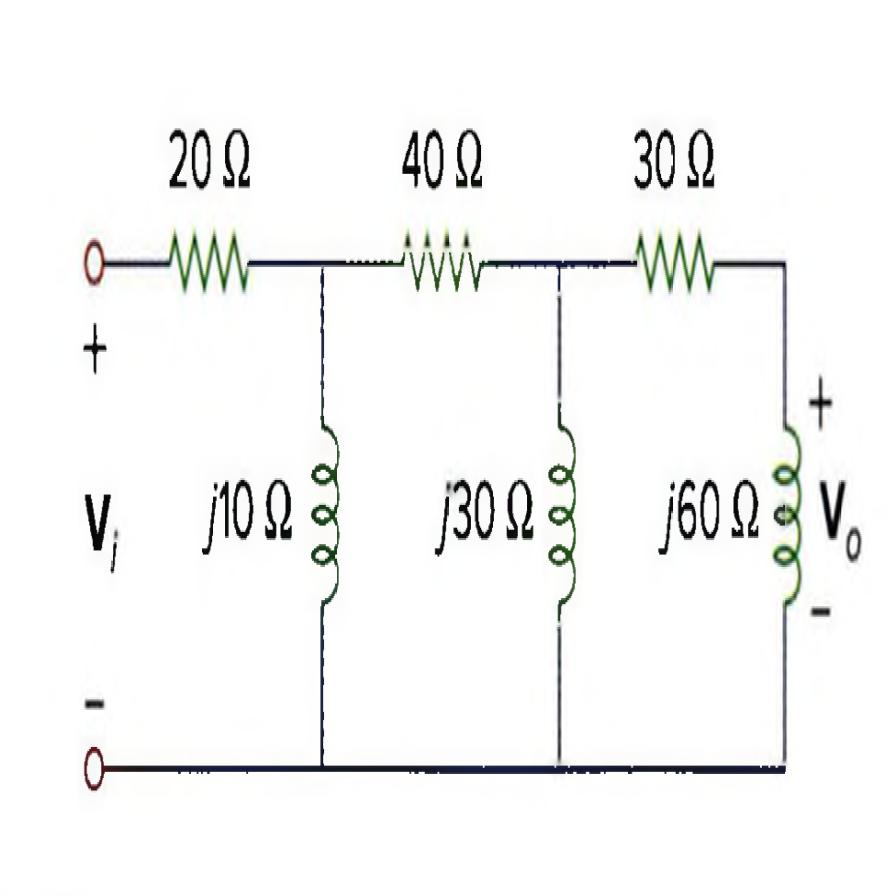L2: (766, 392, 809, 636), (305, 396, 345, 621), (544, 402, 582, 627)
